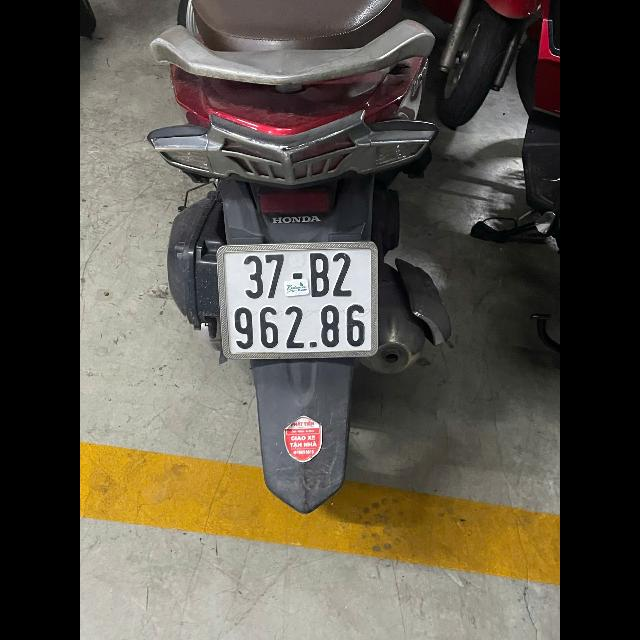BienSoXe: (216, 240, 378, 360)
